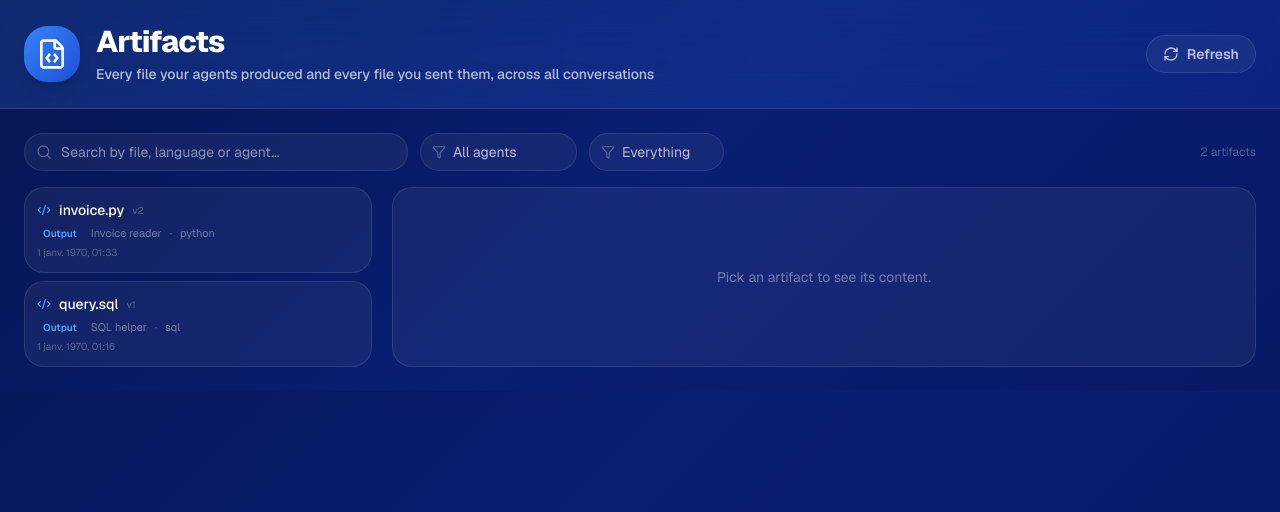
Test: ArtifactsLibrary › surfaces a failed run instead of staying silent
Click the text "invoice.py": (92,210) top-left (59, 200), bottom-right (124, 220)
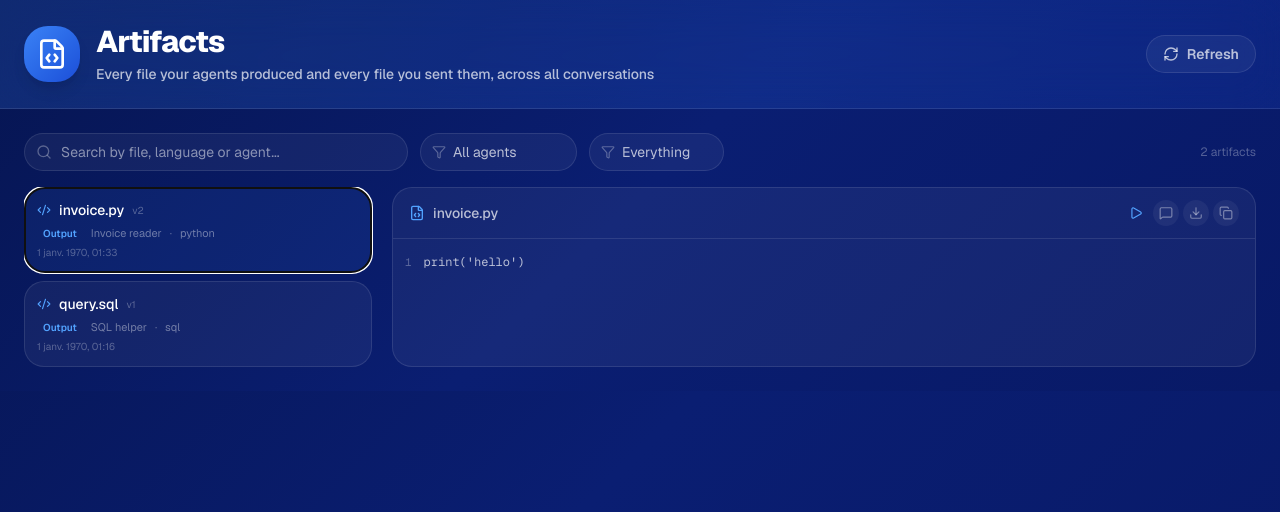
Click the button titled "Run code": (1136,213) top-left (1123, 200), bottom-right (1149, 226)
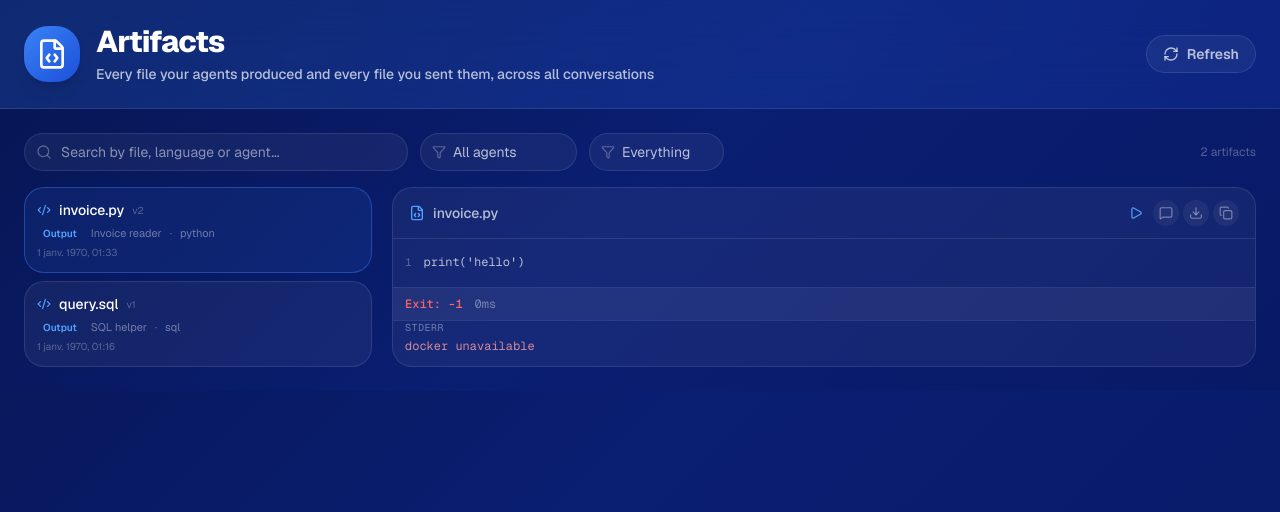
Result: the text "docker unavailable" is shown at top-left (405, 338), bottom-right (535, 354)
